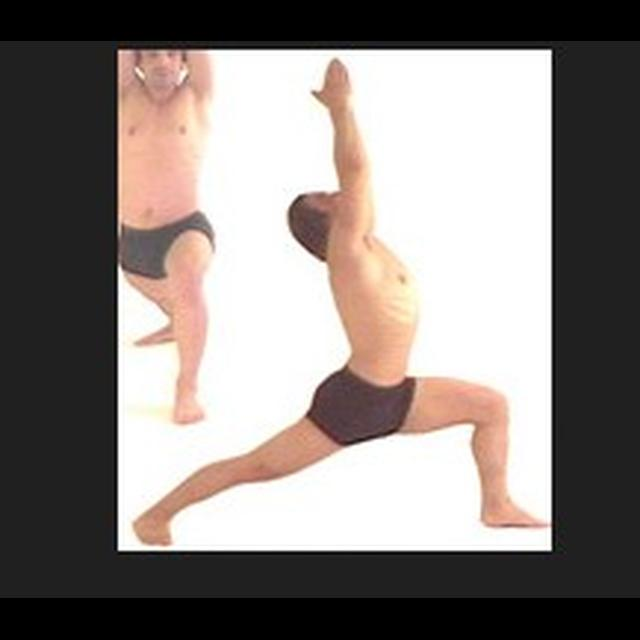Warrior_I: (132, 54, 547, 547)
